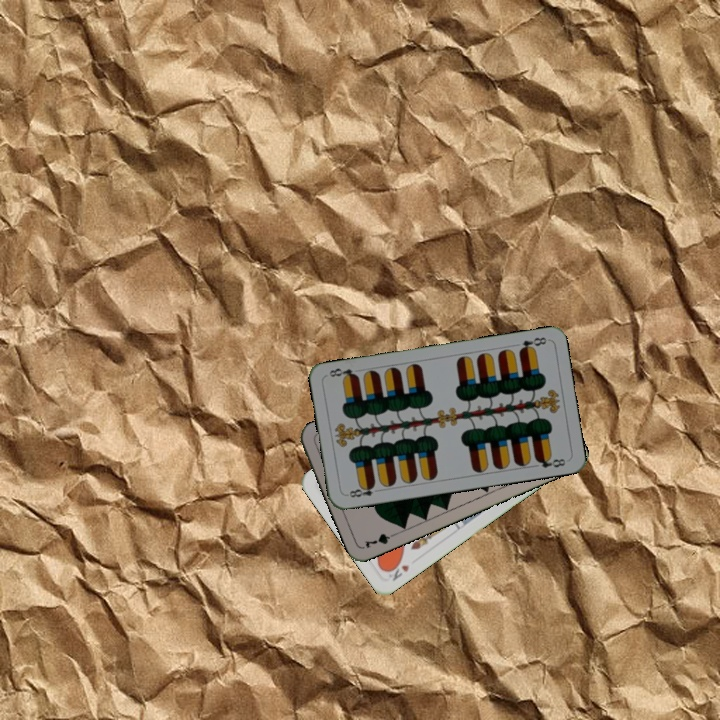E8: (343, 480, 383, 500), (515, 333, 549, 355)
G7: (360, 528, 400, 551)
HK: (383, 557, 412, 584)
